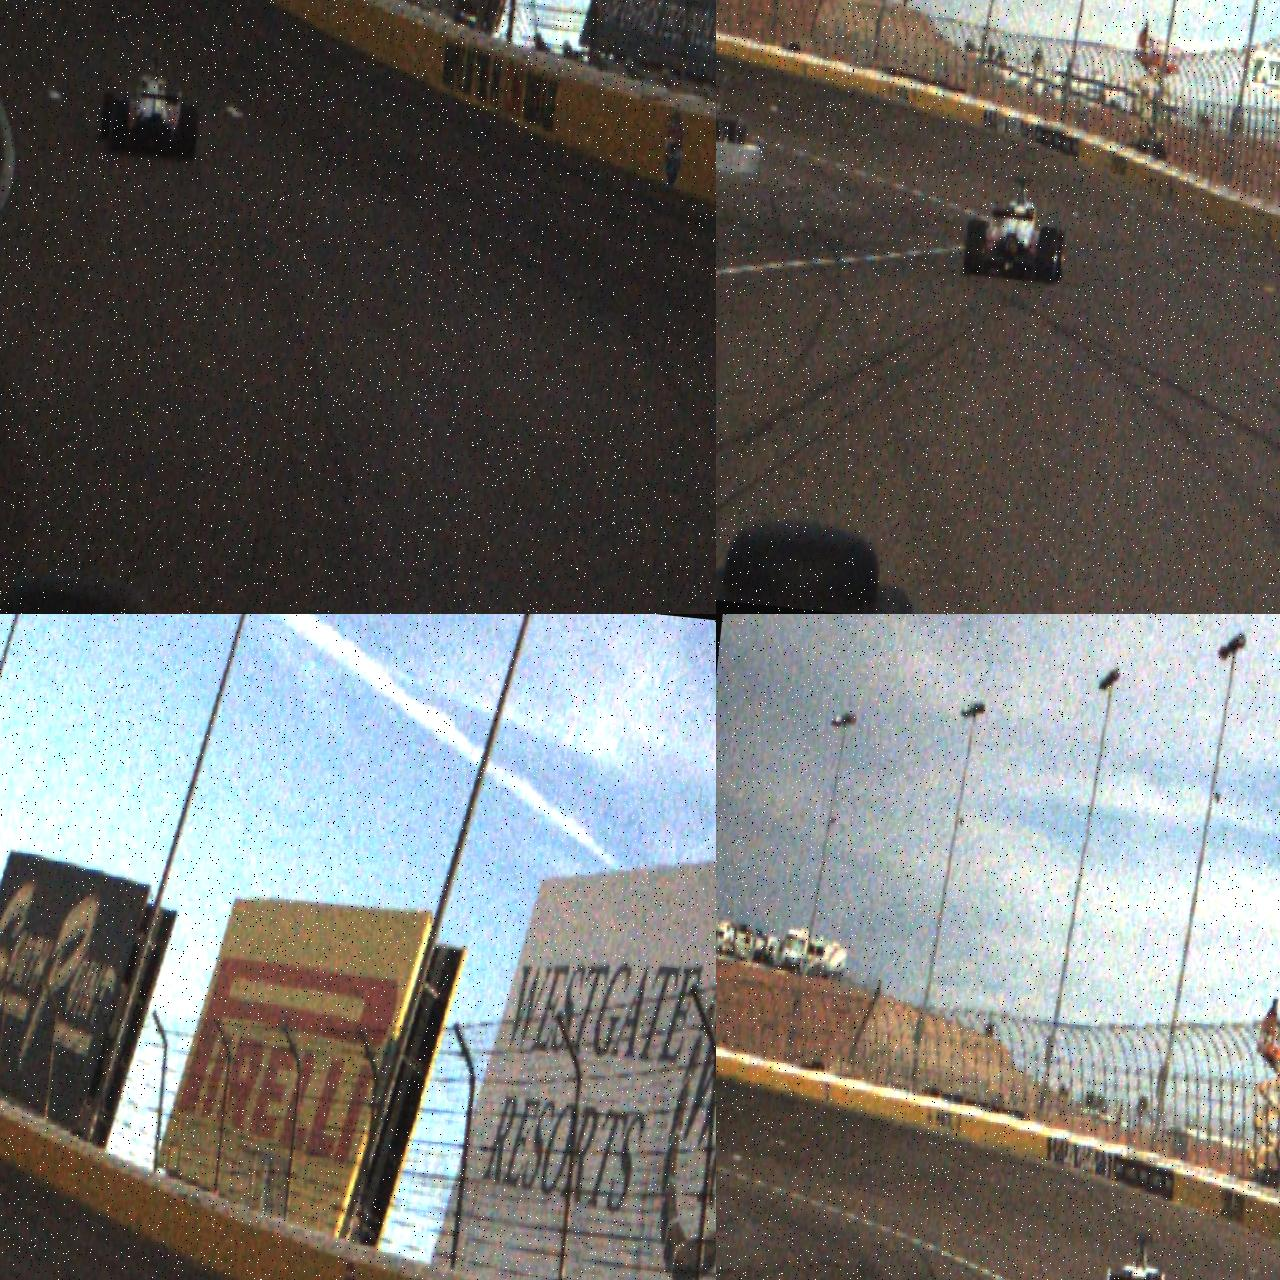AV: (962, 171, 1073, 286), (96, 49, 206, 163), (1070, 1228, 1198, 1280)
Wheel: (962, 218, 989, 277), (1034, 225, 1058, 285), (177, 105, 200, 163), (107, 101, 130, 157), (1048, 231, 1068, 284), (97, 90, 116, 143)
